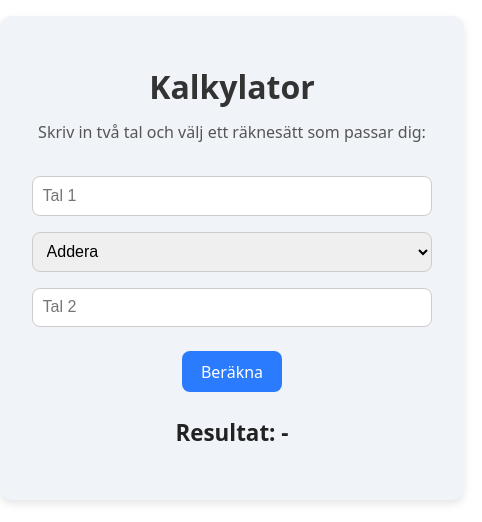
Scenario: Calculator › hanterar division med noll
The width and height of the screenshot is (482, 522).
Step 1. Type "5" into the number field with placeholder "Tal 1" → {"x": 232, "y": 196}, box [32, 176, 432, 216]
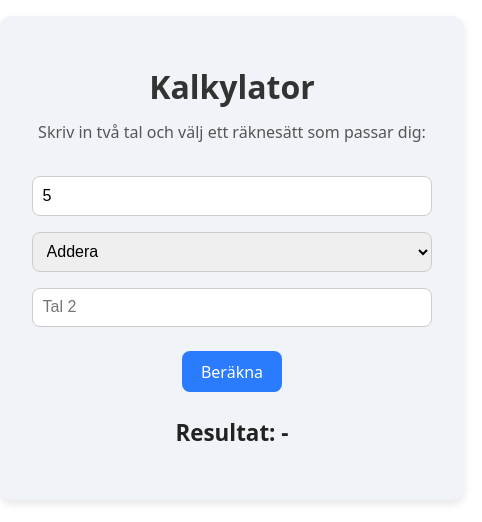
Step 2. Type "0" into the number field with placeholder "Tal 2" → {"x": 232, "y": 307}, box [32, 288, 432, 327]
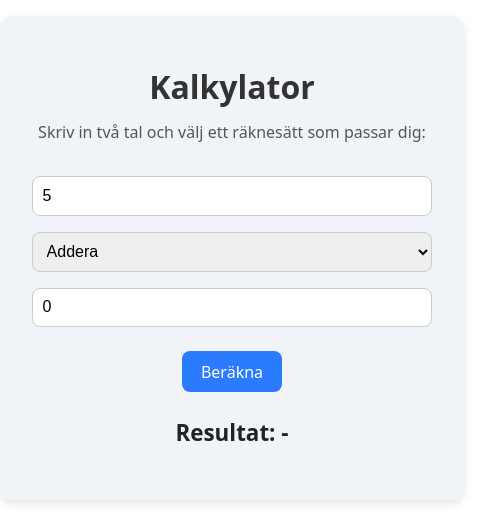
Step 3. Select "Dividera" in the dropdown → {"x": 232, "y": 252}, box [32, 232, 432, 272]
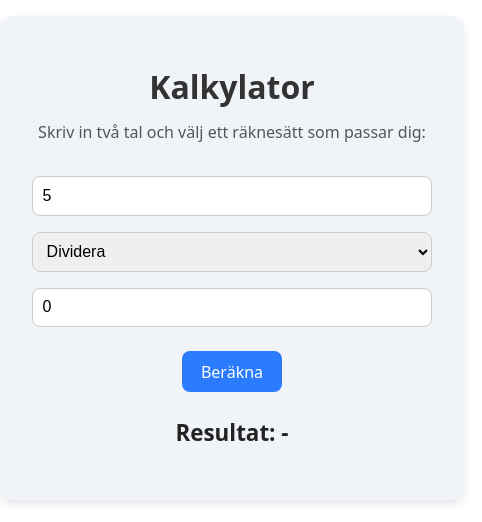
Step 4. Click the button "Beräkna" → {"x": 232, "y": 372}, box [182, 351, 282, 392]
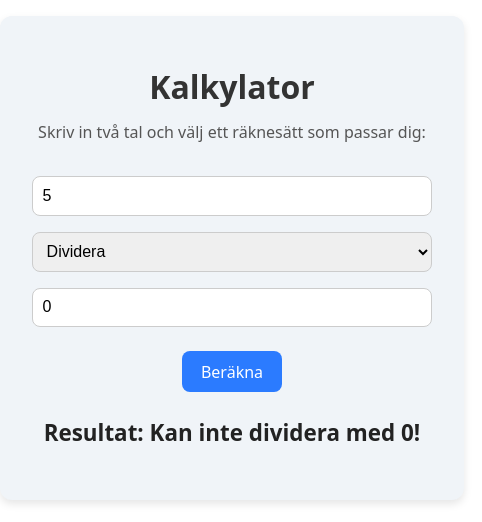
Now the heading "Resultat: Kan inte dividera med 0!" is shown, box [32, 416, 432, 450]
